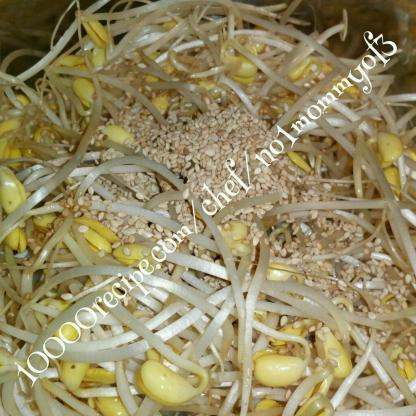bean sprouts: (64, 250, 404, 416)
